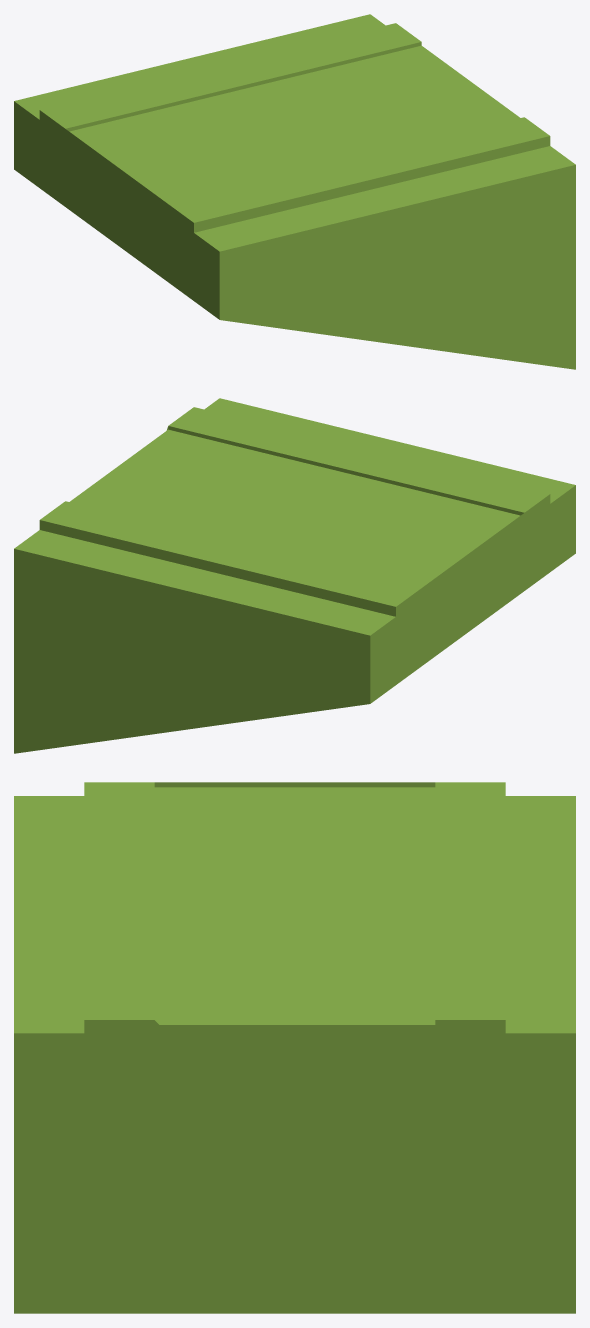
Rendered from roadtile_170.glb.
The picture shows the model from 3 angles, top to bottom: view 1: azimuth 30°, elevation 25°; view 2: azimuth 150°, elevation 25°; view 3: azimuth 270°, elevation 25°; orthographic projection. The views are drawn at different scales.
Parts seen in each view (by area): view 1: Mesh1 Group1 Model; view 2: Mesh1 Group1 Model; view 3: Mesh1 Group1 Model.
Part boxes in pixels (x1=…): Mesh1 Group1 Model: x1=14, y1=14, x2=575, y2=369; Mesh1 Group1 Model: x1=14, y1=398, x2=575, y2=753; Mesh1 Group1 Model: x1=14, y1=782, x2=575, y2=1313.
Size of the model in its own units: 3 by 1.73 by 3.
